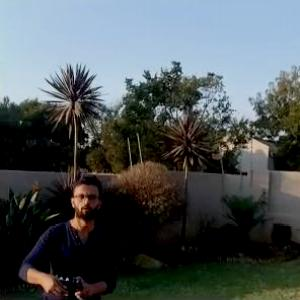follow: (14, 167, 120, 299)
